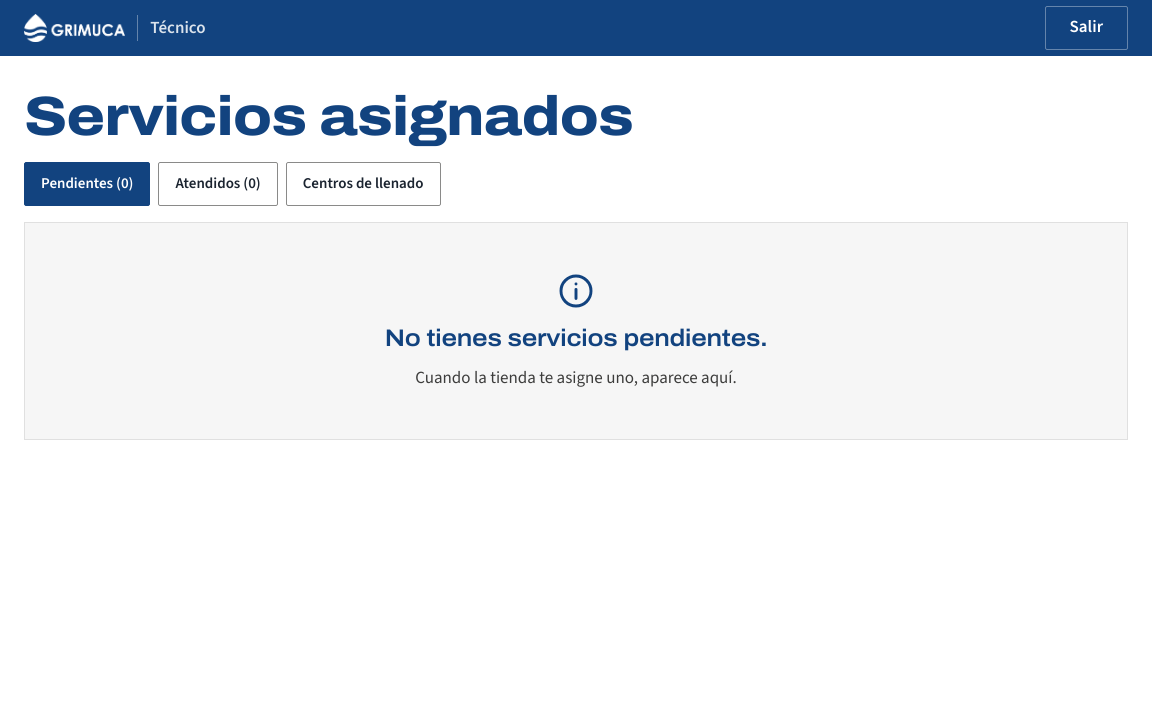
Test: /tecnico · centros de llenado › mide un centro y publica la medición tal cual, con el enlace a su página pública
Click the button "Centros de llenado".
click(363, 184)  # box [286,162,440,206]
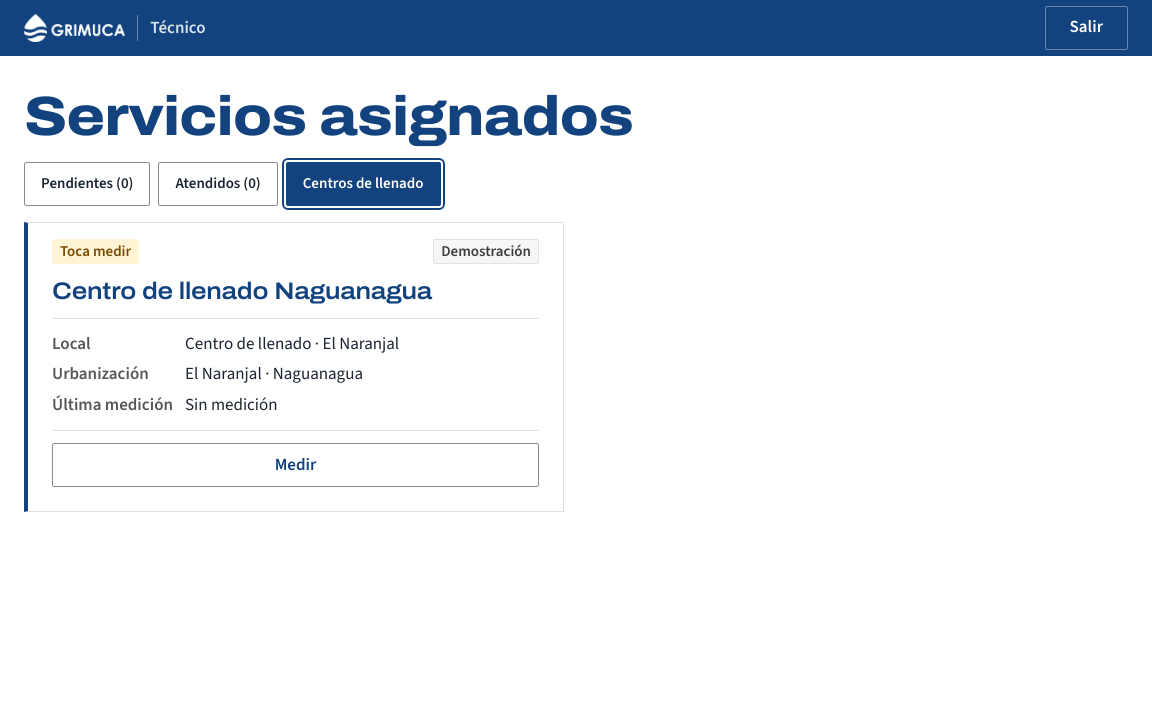
Result: the list named "Centros de llenado" shows "Sin medición" at [185,393,278,417]
Result: the text "Toca medir" is shown at [52,239,139,264]
Click the button "Medir".
click(296, 465)  # box [52,443,539,487]
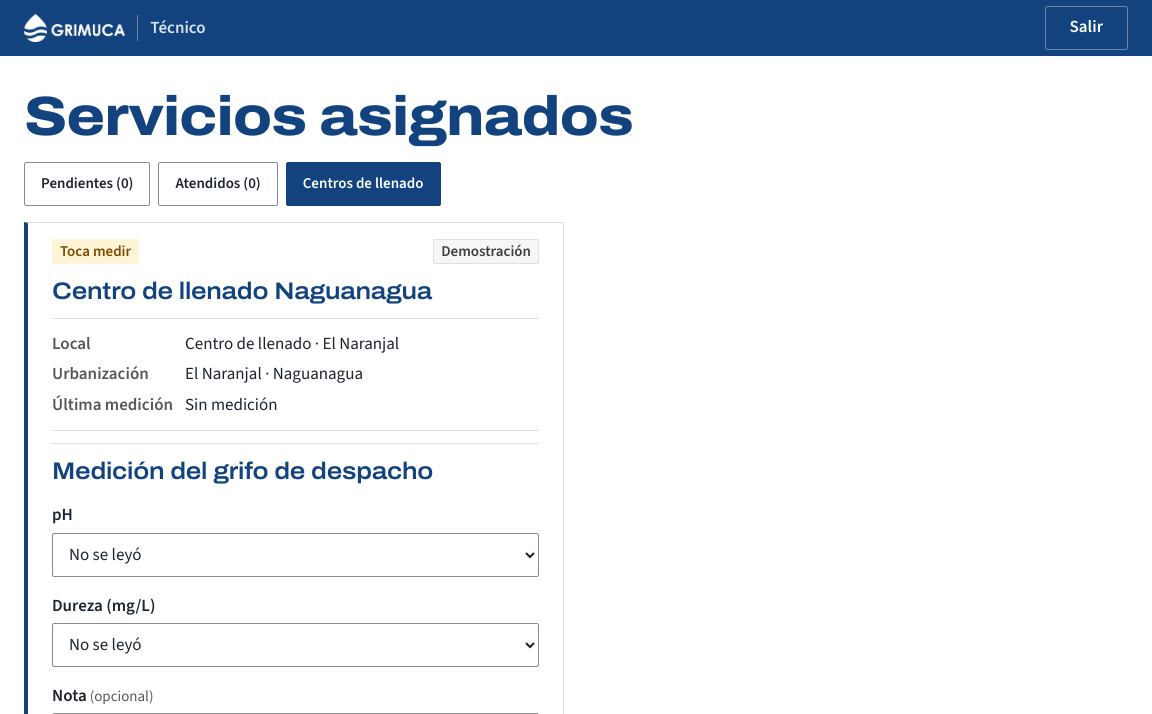
Result: the heading "Medición del grifo de despacho" is shown at [52,458,433,484]
Select "7.2" in the dropdown labelled "pH" at (296, 554), box [52,532,539,576]
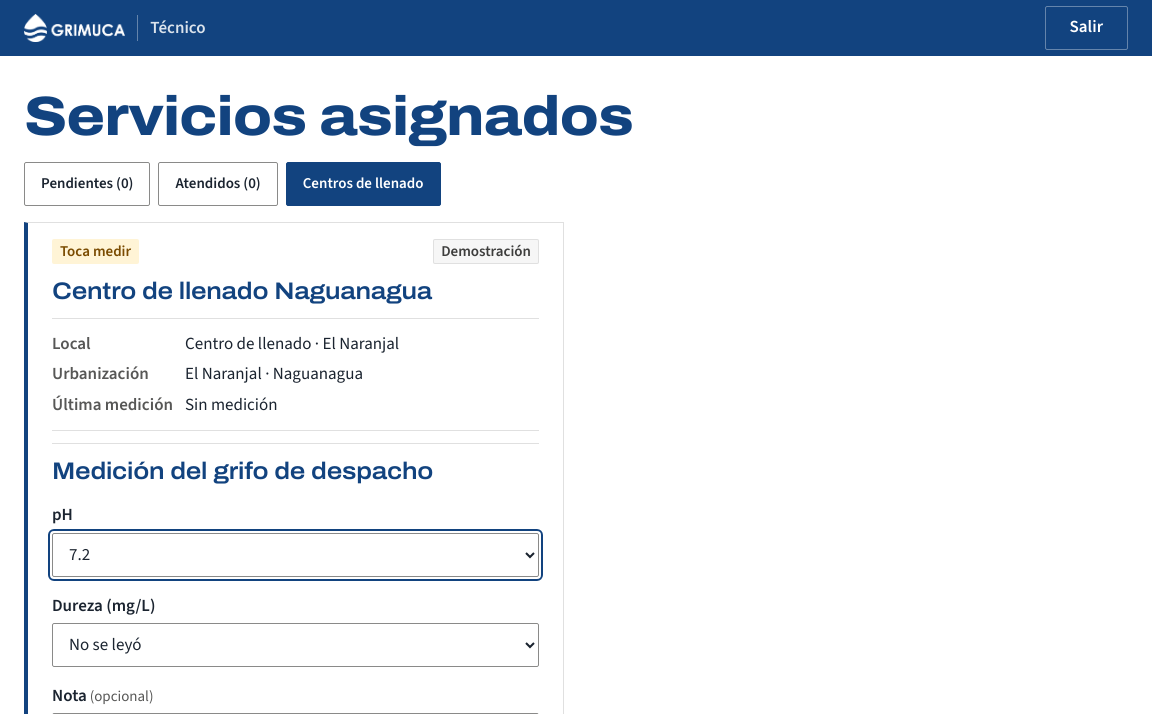
Select "425" in the dropdown labelled "Dureza (mg/L)" at (296, 645), box [52,623,539,667]
(page scrolled)
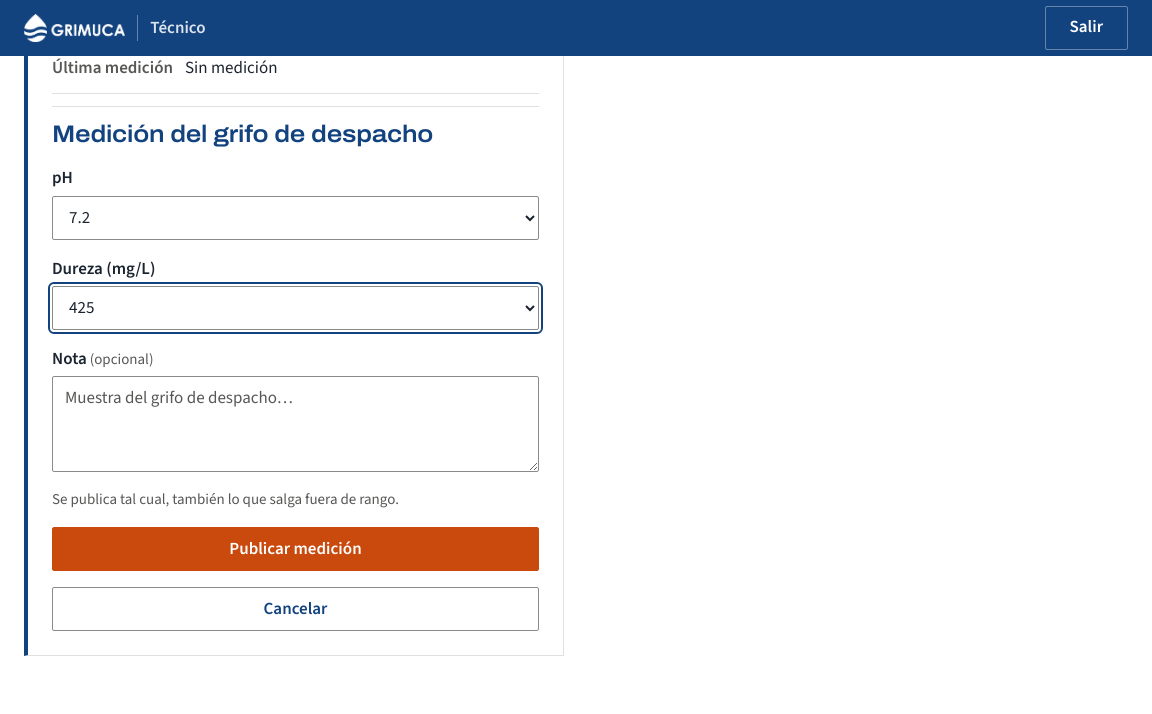
Type "Grifo de despacho" into the text box labelled "Nota (opcional)".
click(296, 424); type("Grifo de despacho")  # box [52,376,539,472]
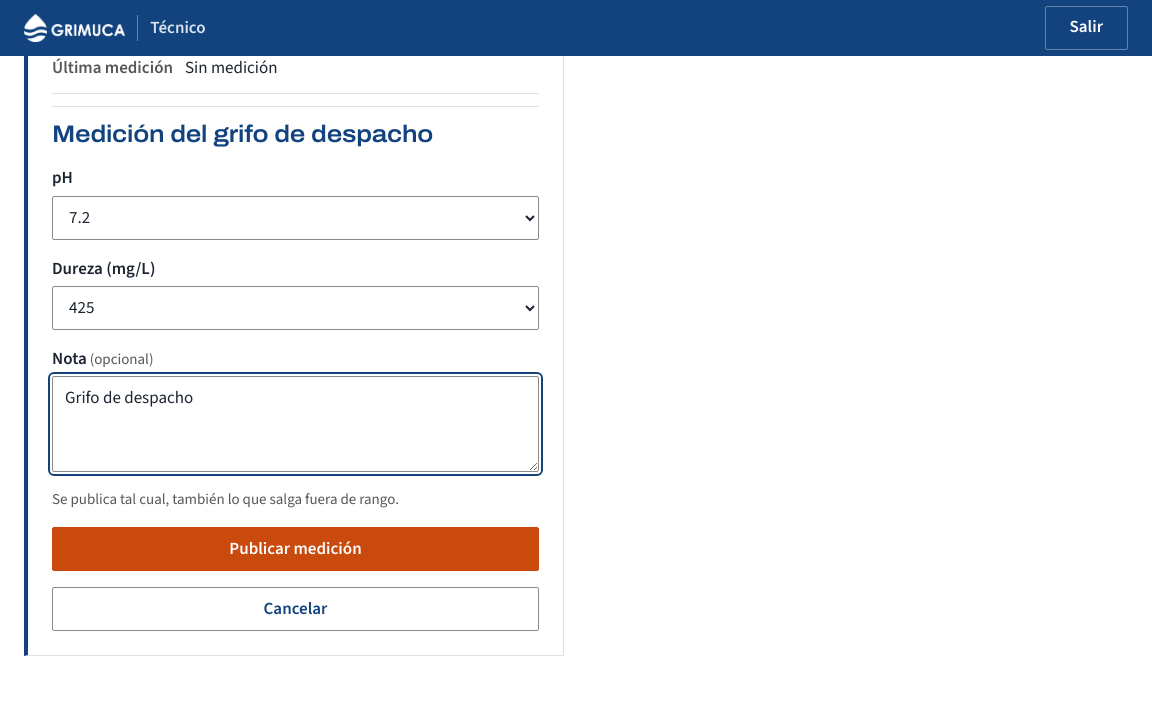
Click the button "Publicar medición".
click(296, 549)  # box [52,527,539,571]
(page scrolled)
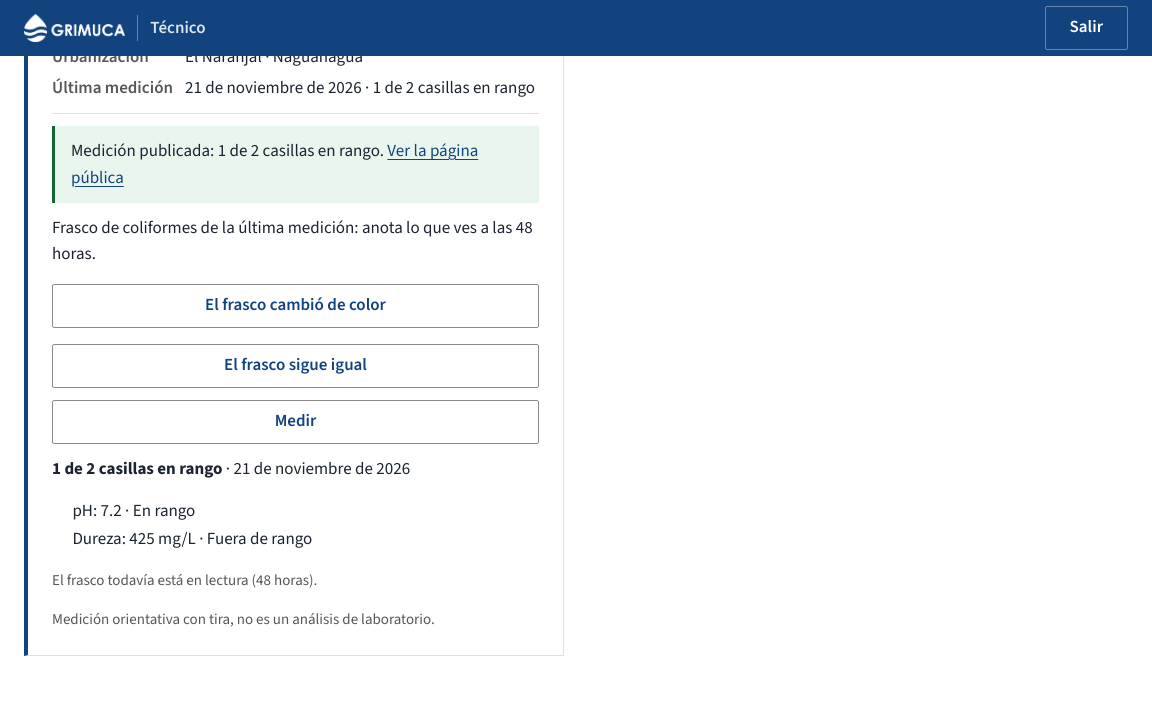
Result: the text "21 de noviembre de 2026 · 1 de 2 casillas en rango" is shown at [185,75,539,101]
Result: the text "Medición orientativa con tira, no es un análisis de laboratorio." is shown at [52,609,435,630]
Result: the list item "Dureza: 425 mg/L · Fuera de rango" is shown at [72,527,312,551]
